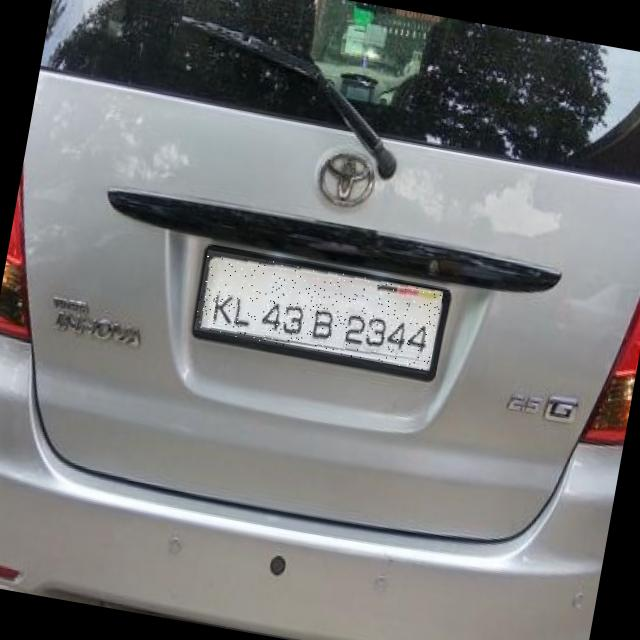Plate: (195, 251, 444, 372)
